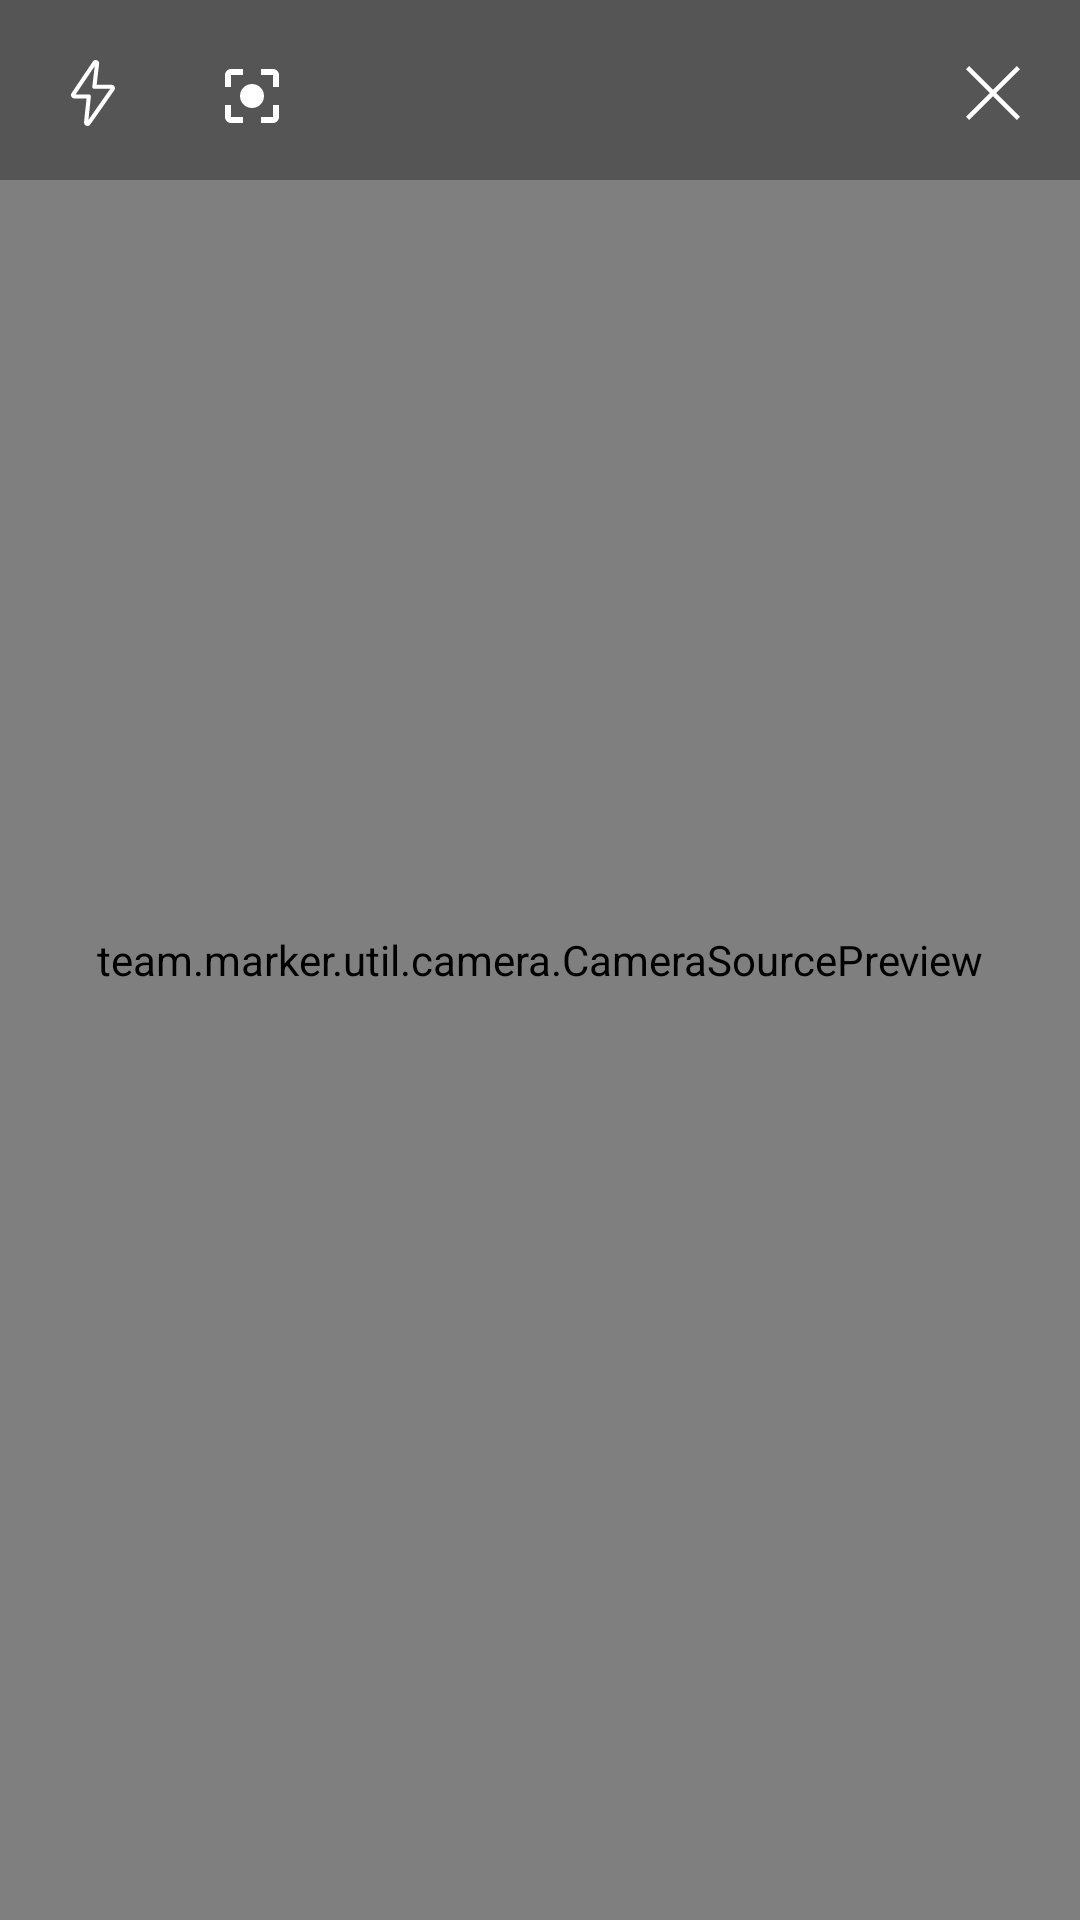

Where icons sit on this 1080x1920 app screen, as (x1,y1,x2,y2):
auto focus: (225,69,279,123)
flash: (71,60,115,126)
